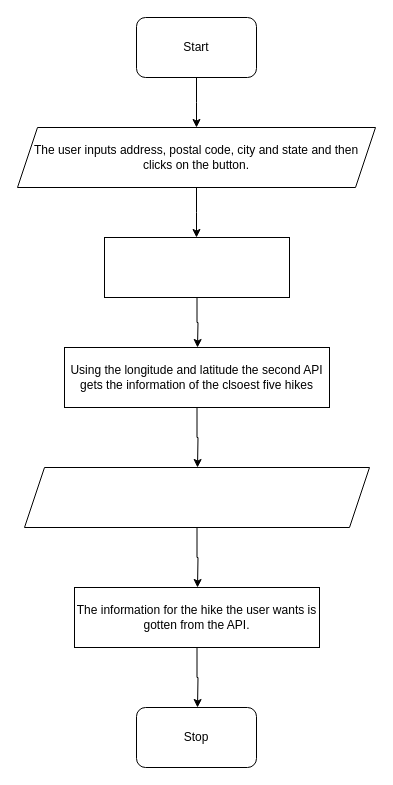
Image size: 393x785. Some labels were removed from this diagram. The centre of each missing label's shape, as x and y in pixels:
"The information is converted by the API to longitude and latitude." goes at point (197, 267).
"The user clicks on the button next to the hike they want." goes at point (197, 497).
